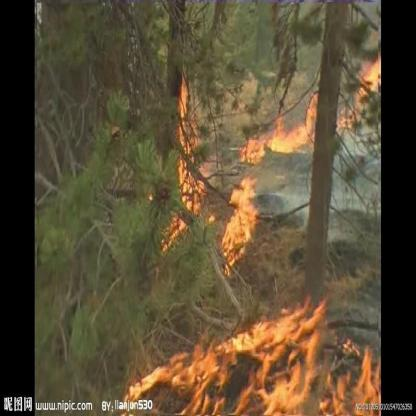fire: (126, 300, 380, 415), (244, 65, 379, 160), (167, 77, 207, 248), (217, 168, 267, 270)
